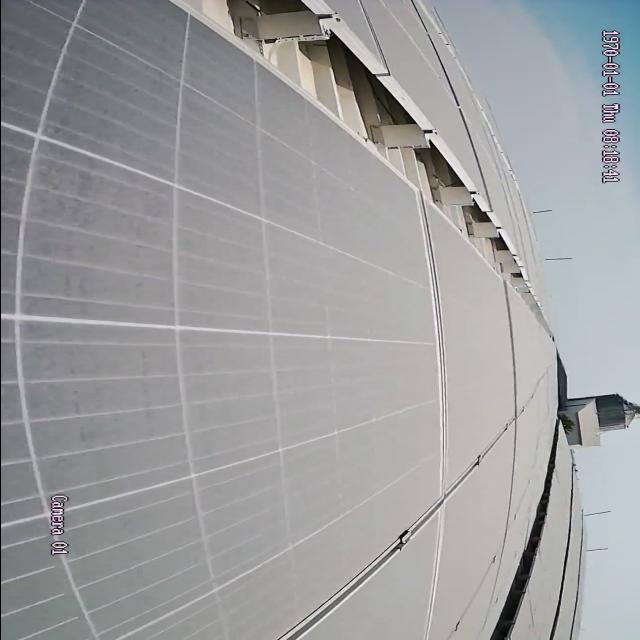interior panel: (281, 417, 512, 640), (485, 489, 548, 639)
outher panel: (172, 0, 543, 318)
